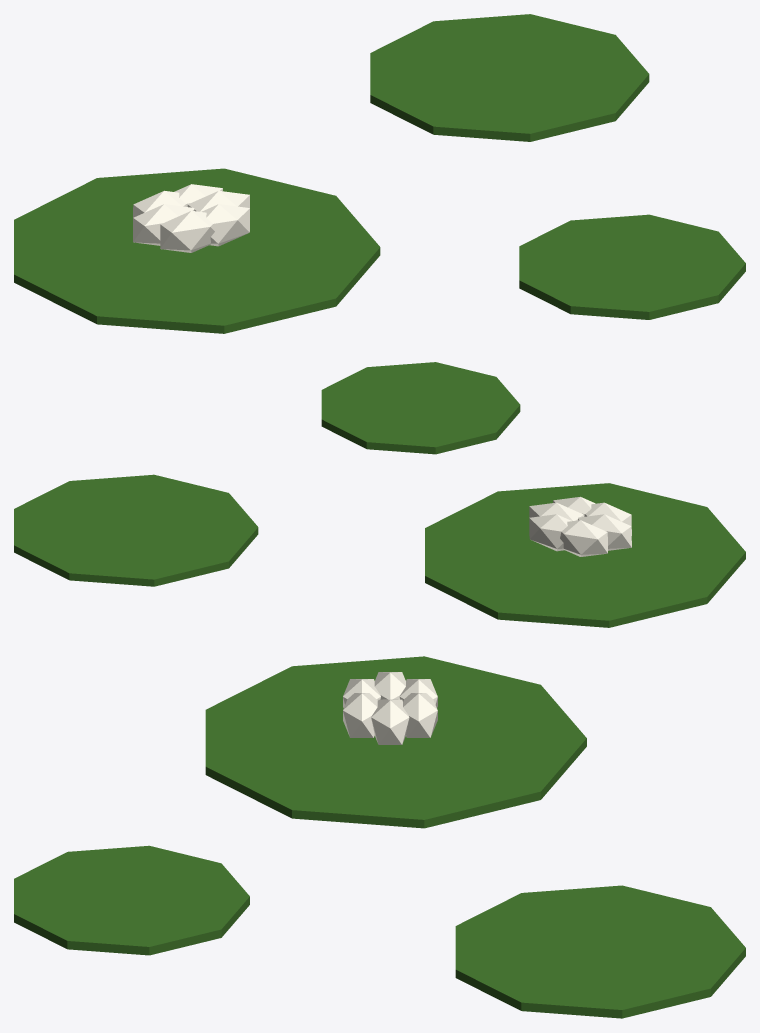
The model's file is foliage_water_lilies.glb.
The picture shows the model from 3 angles, top to bottom: view 1: azimuth 30°, elevation 25°; view 2: azimuth 150°, elevation 25°; view 3: azimuth 270°, elevation 25°; orthographic projection. The views are drawn at different scales.
Parts seen in each view (by area): view 1: foliage_water_lilies; view 2: foliage_water_lilies; view 3: foliage_water_lilies.
Part boxes in pixels (x1,y1,x2,y2): foliage_water_lilies: (14,14,745,333); foliage_water_lilies: (14,362,745,627); foliage_water_lilies: (14,656,745,1018).
Size of the model in its own units: 0.8944 by 0.071 by 0.7822.
